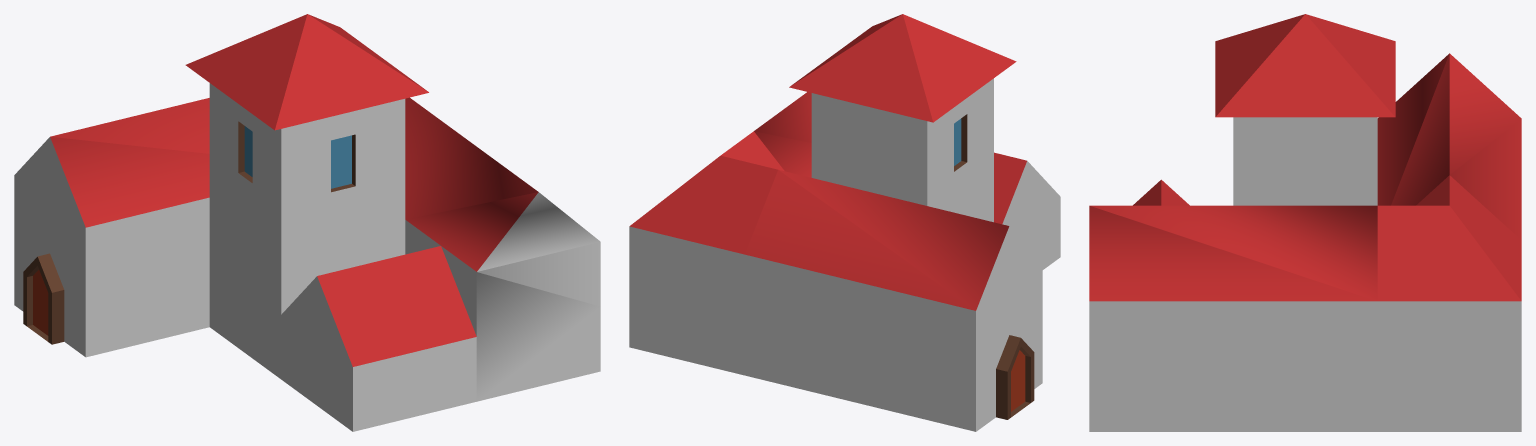
File: building.fbx
The picture shows the model from 3 angles, left to right: view 1: azimuth 30°, elevation 25°; view 2: azimuth 150°, elevation 25°; view 3: azimuth 270°, elevation 25°; orthographic projection. The views are drawn at different scales.
Visible parts, largest first — view 1: building; view 2: building; view 3: building.
Boxes of the visible parts, x1=… form: building: x1=14, y1=14, x2=600, y2=431; building: x1=629, y1=14, x2=1060, y2=431; building: x1=1089, y1=14, x2=1521, y2=431.
Size of the model in its own units: 1.24 by 1 by 1.2.
